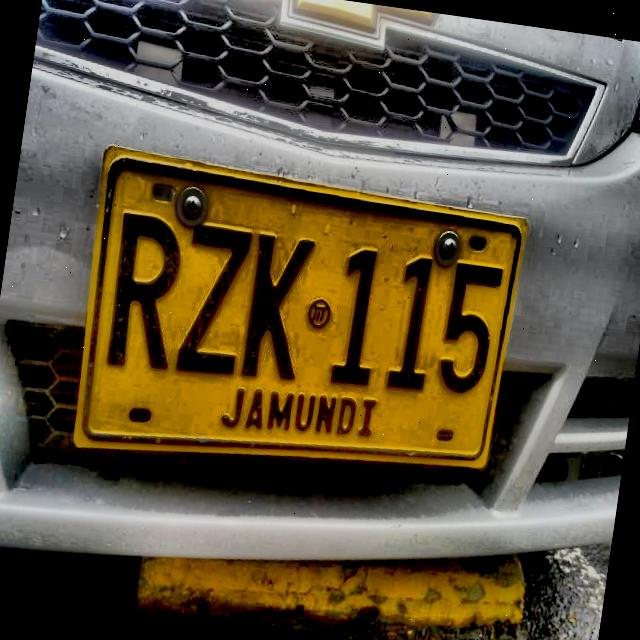plate: (79, 153, 522, 464)
